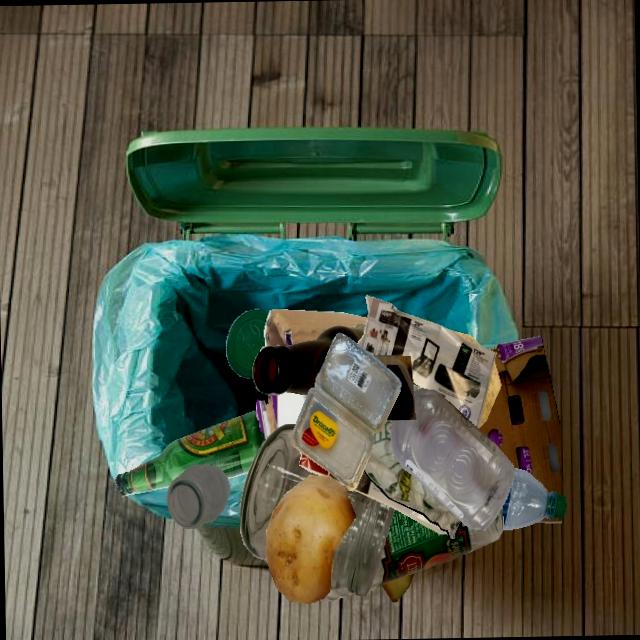biowaste: (265, 474, 355, 603), (479, 360, 501, 427), (379, 572, 414, 601)
cardboard: (478, 335, 561, 500), (260, 309, 367, 351), (373, 355, 415, 419), (255, 391, 307, 440), (353, 323, 366, 329)
glass: (115, 410, 265, 496), (368, 506, 503, 590), (239, 423, 321, 560), (252, 325, 364, 394), (329, 482, 394, 596), (166, 464, 230, 528)
paper: (309, 397, 448, 534), (356, 294, 496, 429), (363, 419, 462, 540)
plastic: (291, 332, 401, 491), (390, 388, 513, 529), (501, 467, 566, 529), (225, 308, 268, 378)
